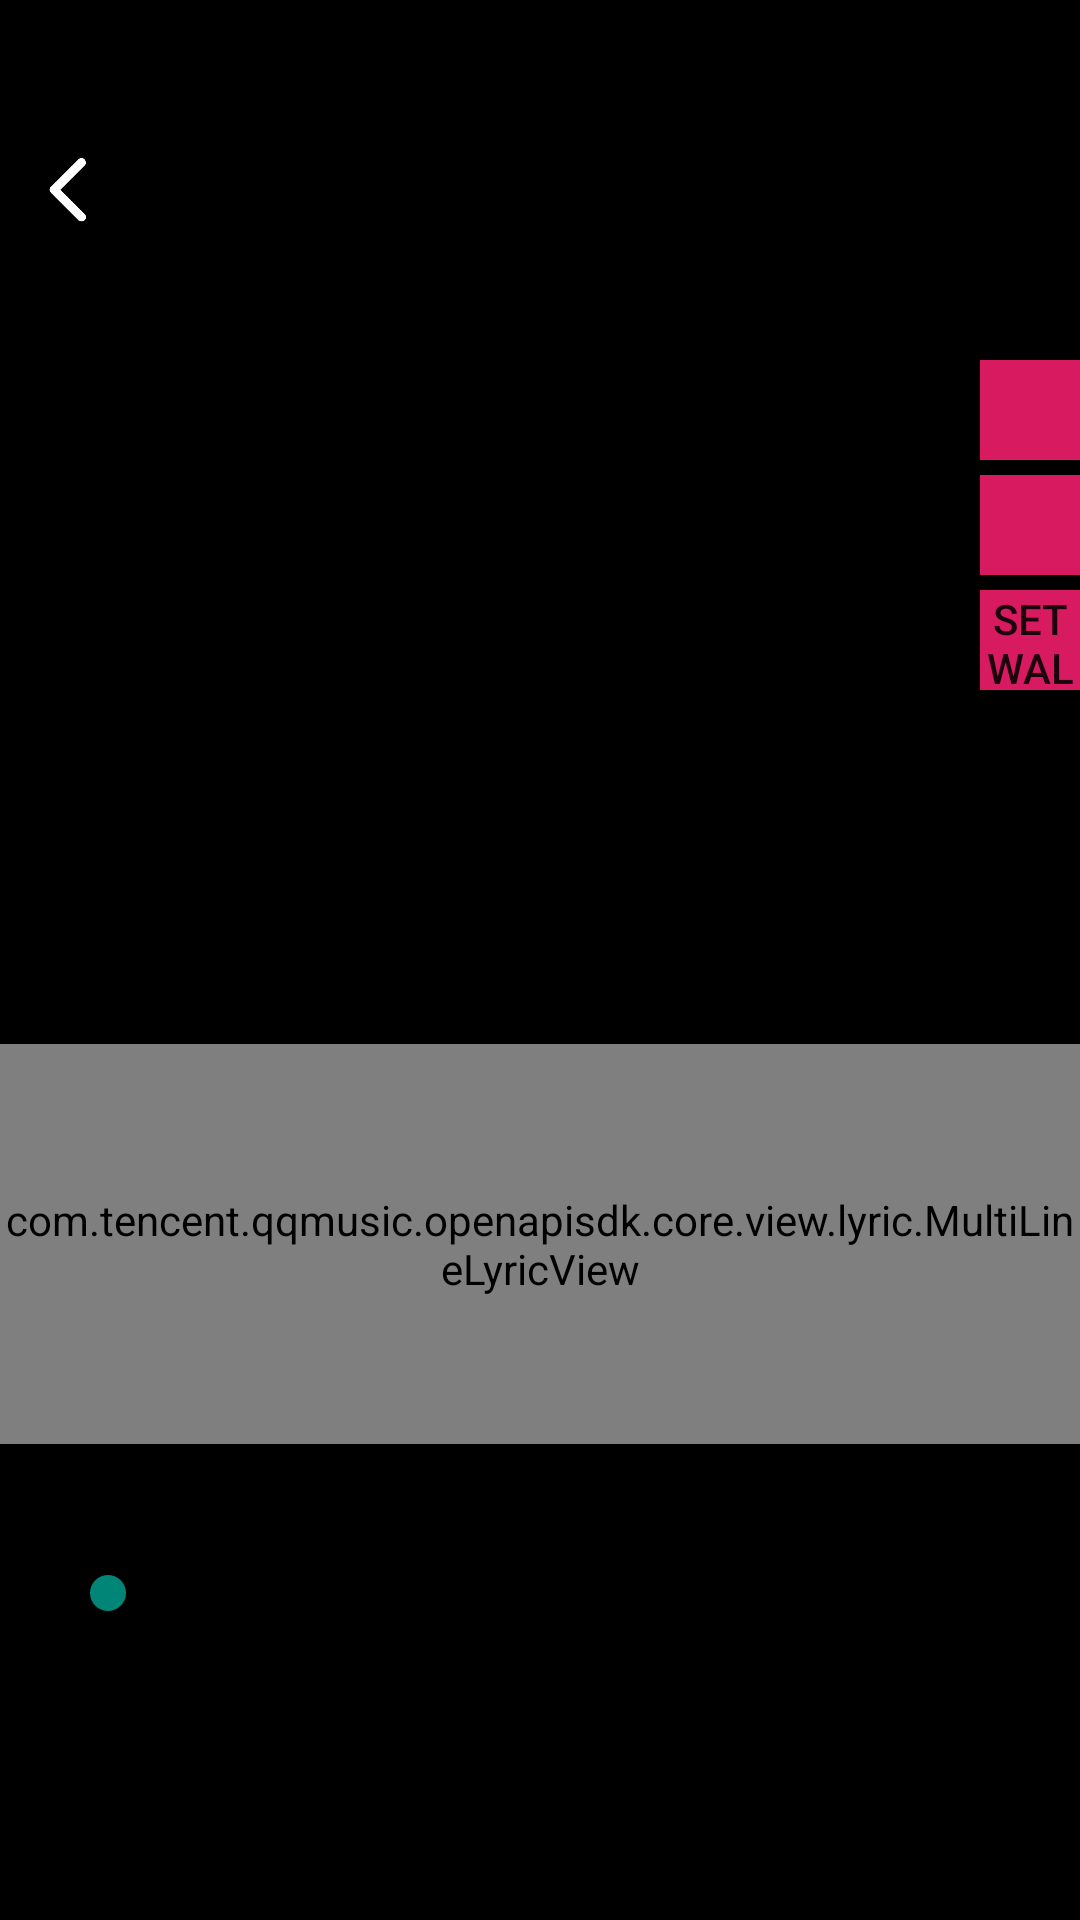

Screen size 1080x1920. Icon name, then its box in pixels as {"x1": x1, "y1": y1, "x2": x2, "y2": y2}:
back: {"x1": 49, "y1": 158, "x2": 86, "y2": 222}
